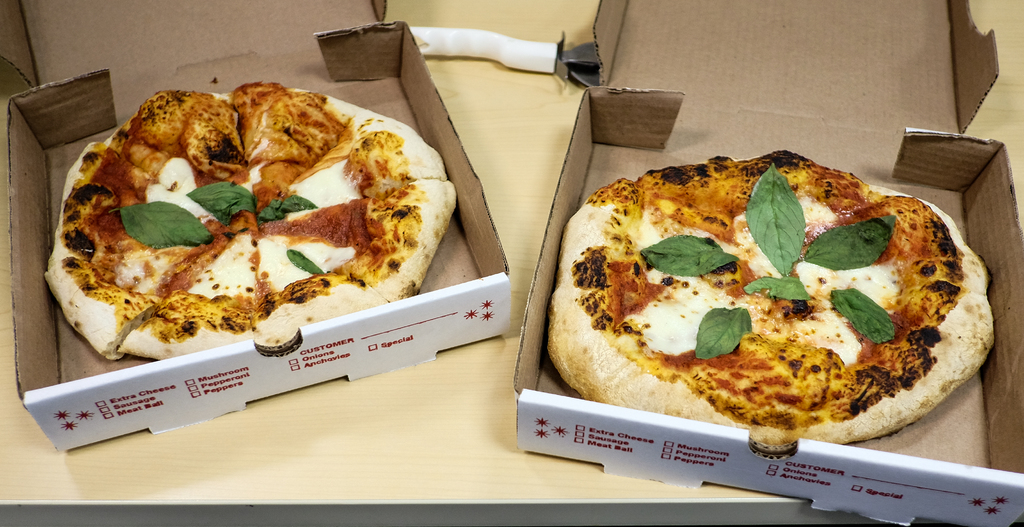Pizza: (670, 270, 827, 430), (798, 274, 993, 395), (538, 264, 682, 416), (41, 235, 209, 359), (267, 132, 447, 242), (62, 132, 246, 233), (737, 144, 872, 273), (567, 149, 737, 251), (247, 77, 366, 212), (791, 205, 977, 291), (116, 235, 259, 343), (262, 233, 421, 328), (106, 79, 237, 191)
